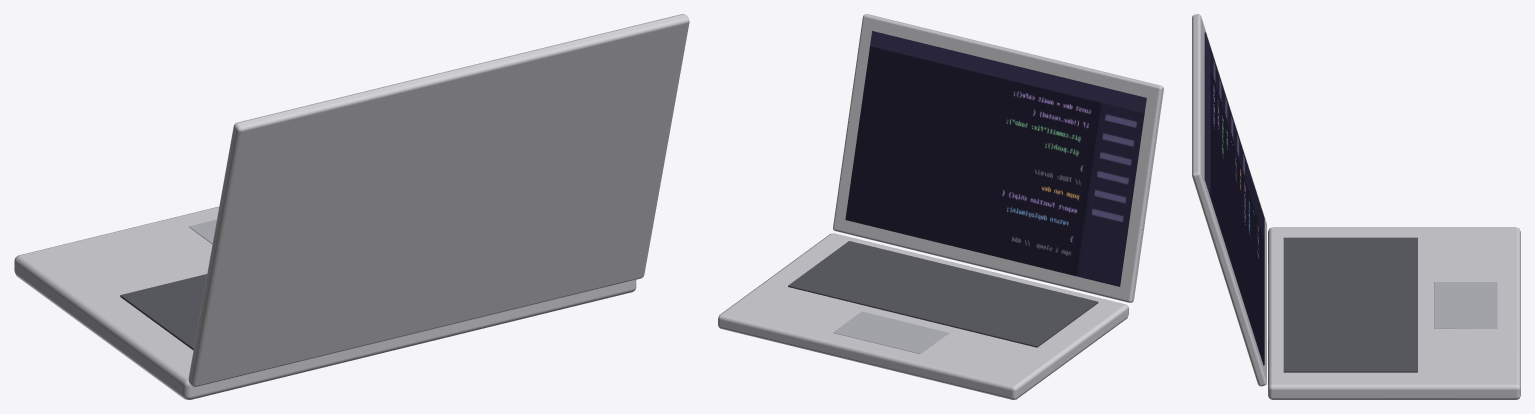
File: laptop.glb
3 renders of one model, left to right at view 1: azimuth 30°, elevation 25°; view 2: azimuth 150°, elevation 25°; view 3: azimuth 270°, elevation 25°, orthographic. The views are drawn at different scales.
Visible parts, largest first — view 1: LaptopLid, LaptopBase, Keyboard; view 2: Display, LaptopBase, Keyboard, LaptopLid, Trackpad; view 3: LaptopBase, Keyboard, Display, LaptopLid, Trackpad.
Boxes of the visible parts, box(x1,y1,x2,y2) form: LaptopLid: box(188, 14, 689, 387); LaptopBase: box(14, 206, 636, 399); Keyboard: box(120, 274, 207, 350); Display: box(845, 31, 1146, 286); LaptopBase: box(718, 233, 1128, 399); Keyboard: box(788, 241, 1098, 347); LaptopLid: box(833, 14, 1163, 302); Trackpad: box(833, 311, 948, 353); LaptopBase: box(1268, 227, 1520, 399); Keyboard: box(1283, 237, 1417, 372); Display: box(1204, 32, 1264, 365); LaptopLid: box(1192, 14, 1266, 386); Trackpad: box(1434, 282, 1497, 328).
Size of the model in its own units: 0.48 by 0.3189 by 0.4159.
4 materials, 1 textured.
